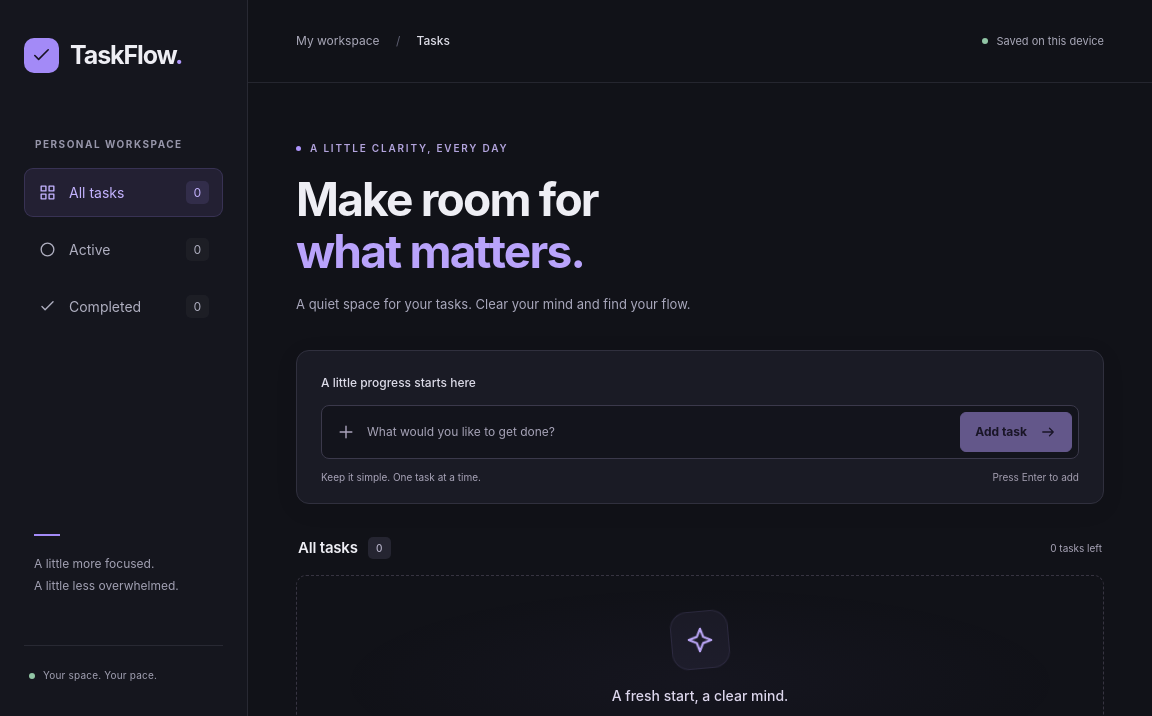
Test: TaskFlow user journeys › cancels edits using Escape without changing stored text
Type "Keep this" into the field labelled "A little progress starts here". click: {"x": 658, "y": 432}
box: top-left (367, 414), bottom-right (949, 450)
Then press Enter
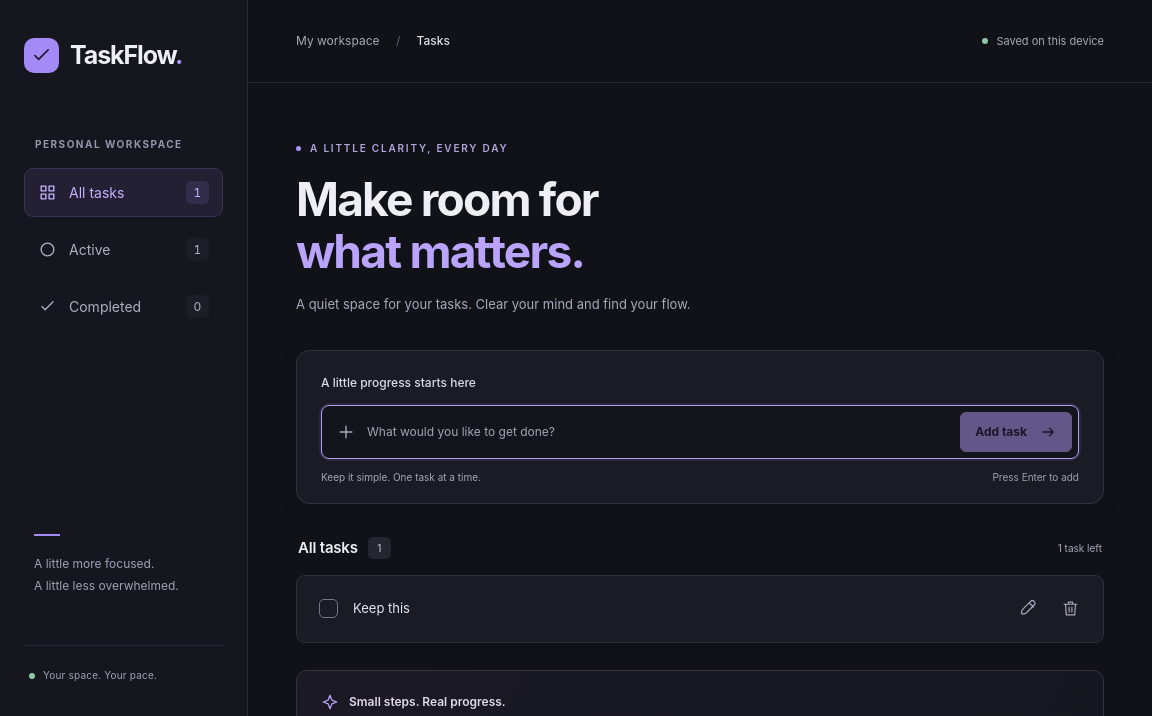
Click the button named "Edit Keep this". click: {"x": 1028, "y": 609}
box: top-left (1008, 589), bottom-right (1048, 629)
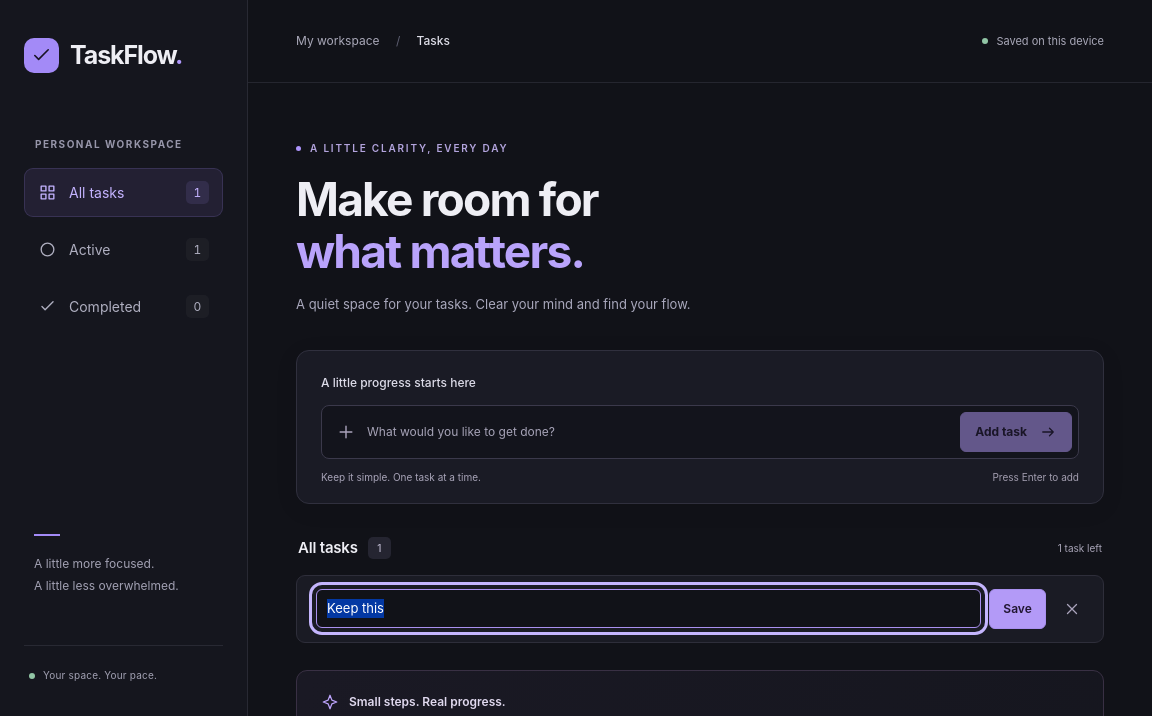
Replace the text in the field named "Edit task title" with "Discard this". click: {"x": 649, "y": 609}
box: top-left (316, 589), bottom-right (981, 628)
Then press Escape
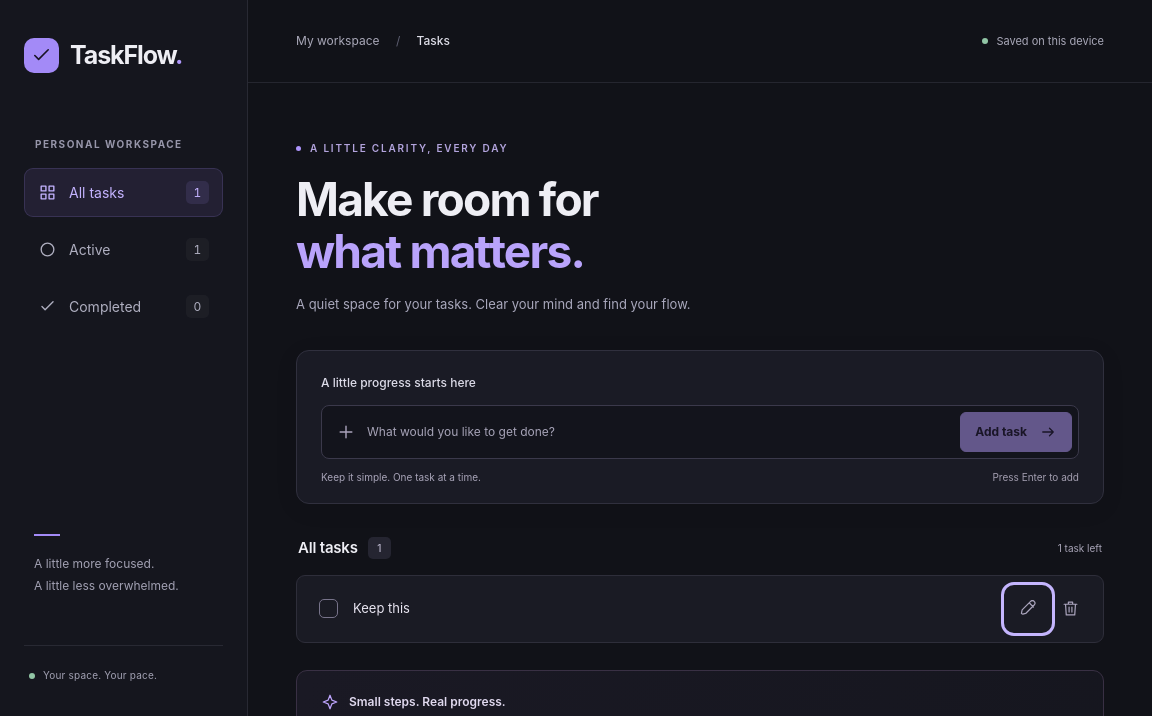
Check: the text "Keep this" is shown, box top-left (353, 600), bottom-right (410, 616)
